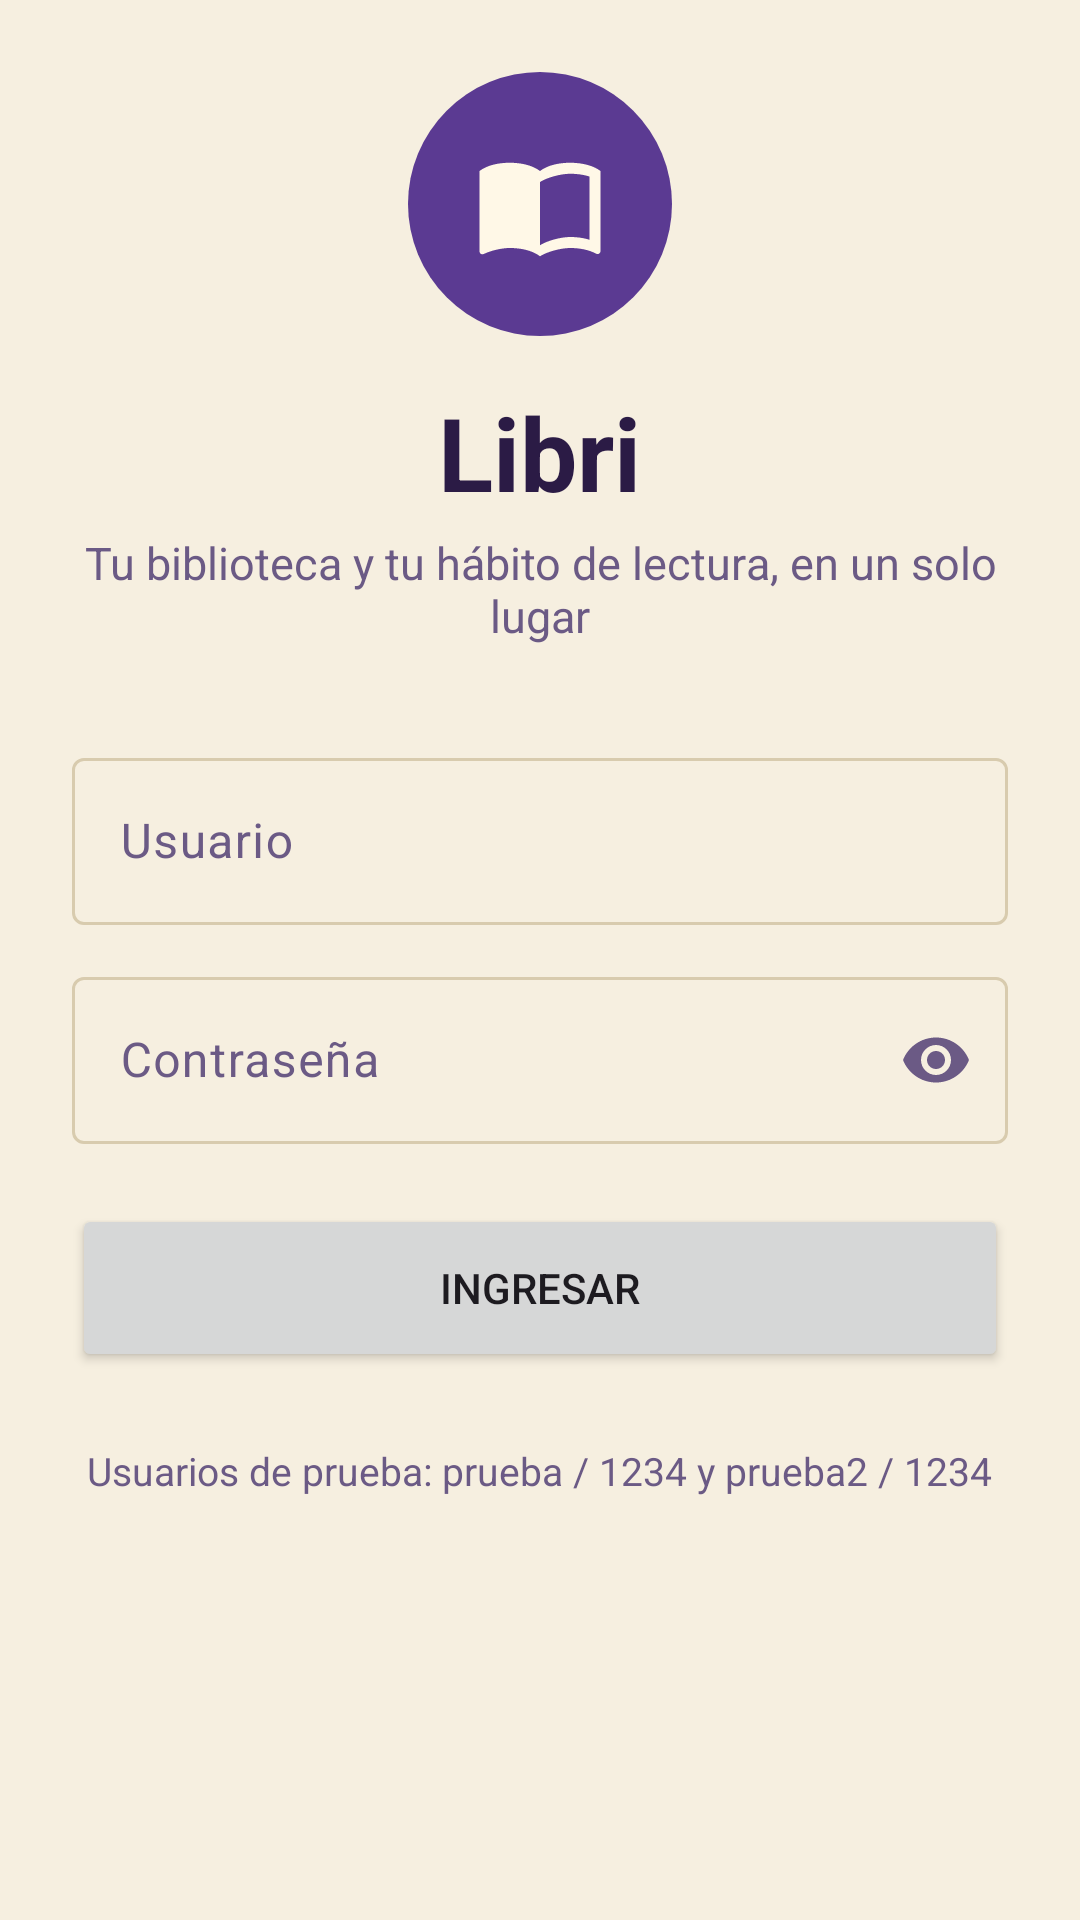

Icon bounding boxes for this 1080w x 1920h phone screenshot, format (x1, y1, x2, y2):
book: (408, 72, 672, 336)
